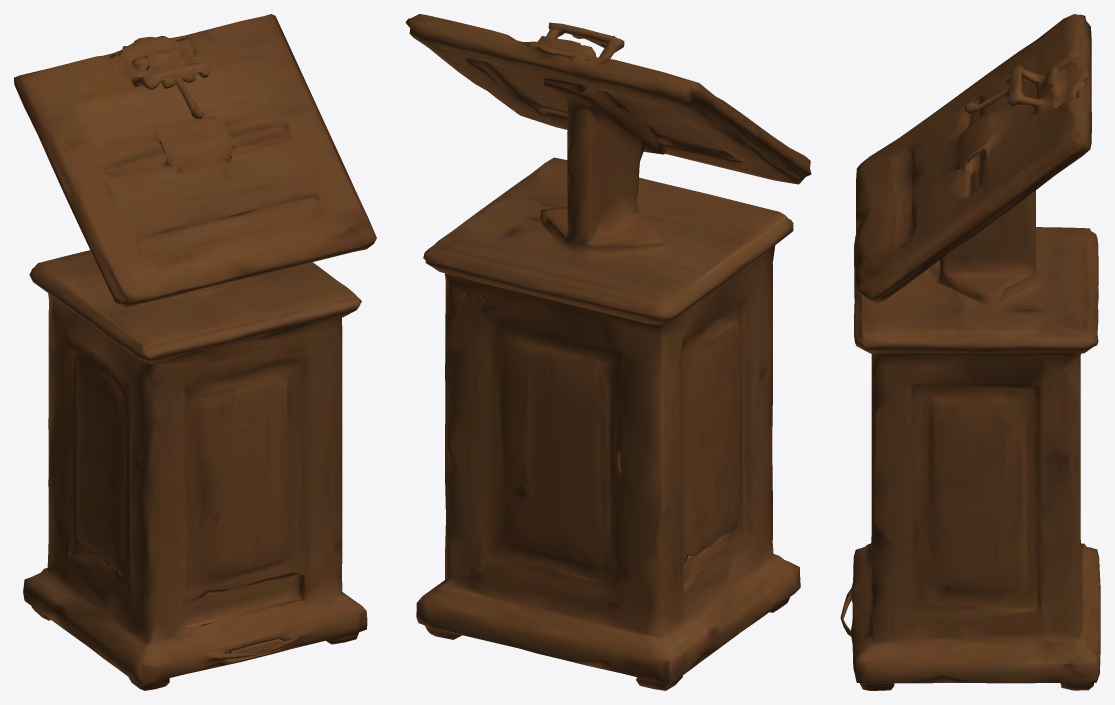
File: ambon.glb
3 views of the same model, side by side, from view 1: azimuth 30°, elevation 25°; view 2: azimuth 150°, elevation 25°; view 3: azimuth 270°, elevation 25° (orthographic). The views are drawn at different scales.
Visible parts, largest first — view 1: geometry_0; view 2: geometry_0; view 3: geometry_0.
Part boxes in pixels (x1,y1,x2,y2): geometry_0: (14, 14, 376, 690); geometry_0: (405, 14, 811, 690); geometry_0: (840, 14, 1100, 690).
Size of the model in its own units: 0.6 by 1.2 by 0.5.
1 material, 1 textured.
